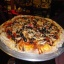pizza: (3, 16, 63, 56)
